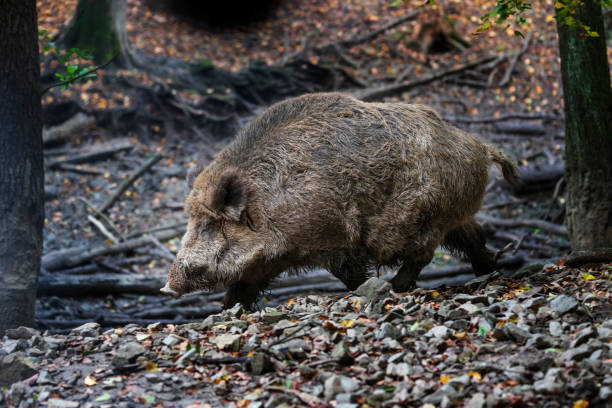pig: (158, 97, 509, 302)
